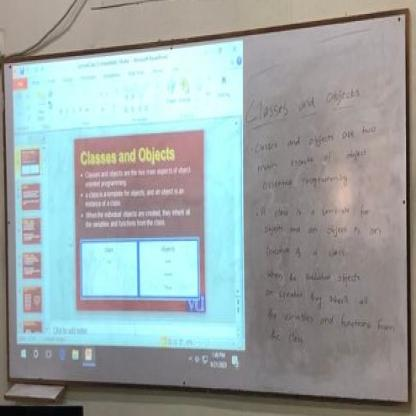Handwritten text: (236, 69, 368, 132), (245, 112, 383, 161), (252, 143, 372, 179), (256, 195, 374, 227), (262, 310, 401, 337), (261, 168, 352, 195), (260, 287, 377, 308), (262, 264, 366, 286), (263, 236, 350, 261)
Whiteboard: (0, 12, 413, 408)
